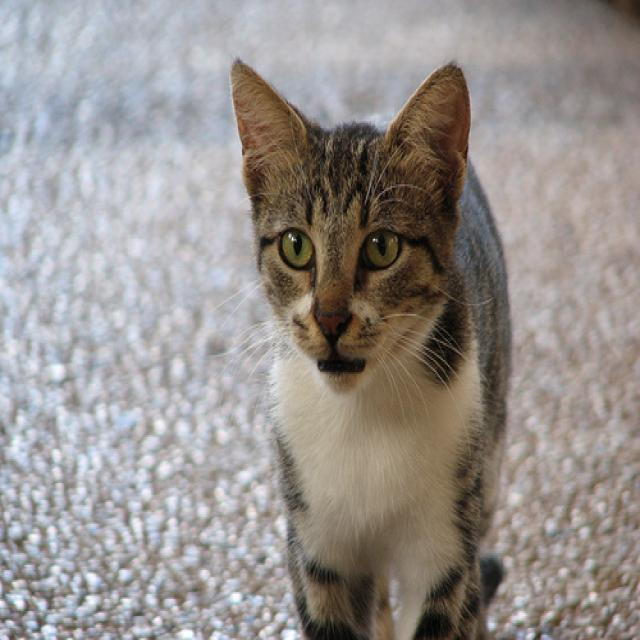cat: (215, 63, 510, 630)
